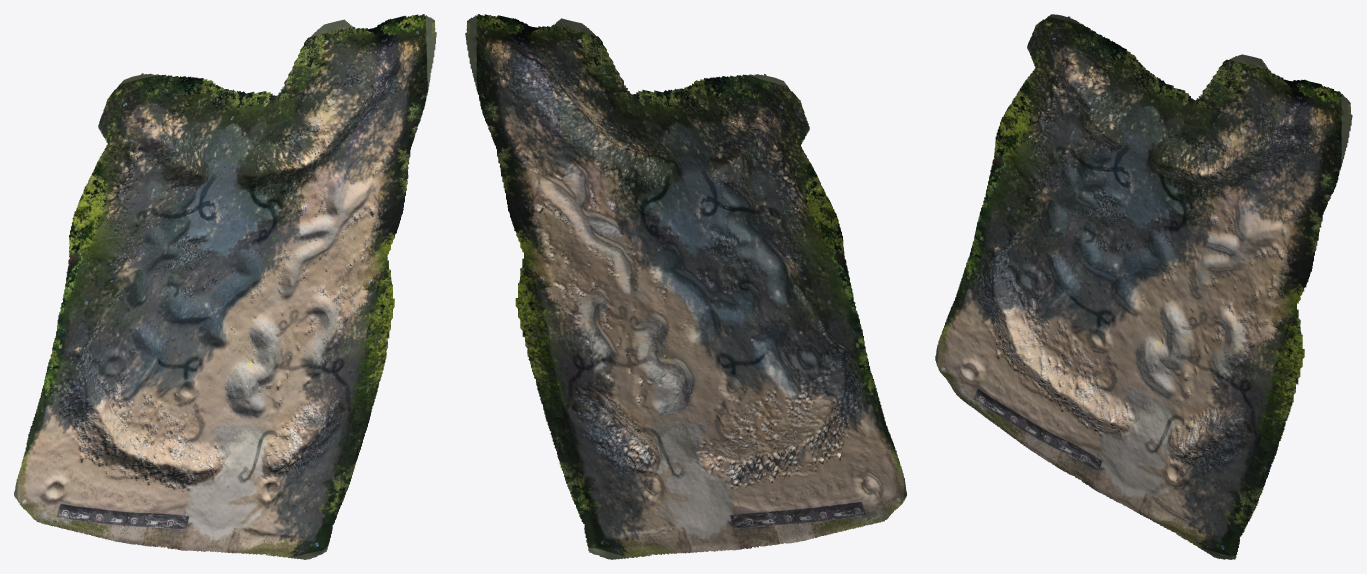
Rendered from erc2026_visual.obj.
The picture shows the model from 3 angles, left to right: view 1: azimuth 30°, elevation 25°; view 2: azimuth 150°, elevation 25°; view 3: azimuth 330°, elevation 25°; orthographic projection. The views are drawn at different scales.
Bounding box in the file's own units: 37.34 × 43.77 × 2.47.
1 material, 1 textured.
